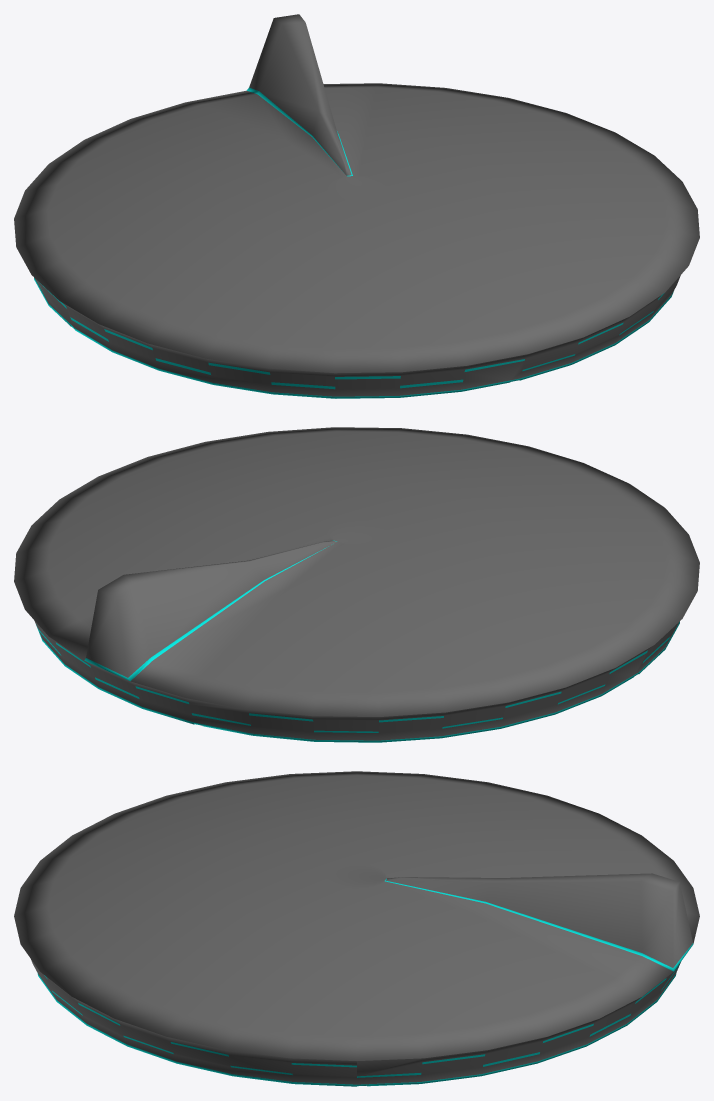
The model's file is CityDest.fbx.
The picture shows the model from 3 angles, top to bottom: view 1: azimuth 30°, elevation 25°; view 2: azimuth 150°, elevation 25°; view 3: azimuth 270°, elevation 25°; orthographic projection.
Parts seen in each view (by area): view 1: Cylinder; view 2: Cylinder; view 3: Cylinder.
Boxes of the visible parts, x1,y1,x2,y2 form: Cylinder: [14, 14, 699, 398]; Cylinder: [14, 427, 699, 742]; Cylinder: [14, 771, 699, 1086].
Bounding box in the file's own units: 2389 × 574 × 2389.
